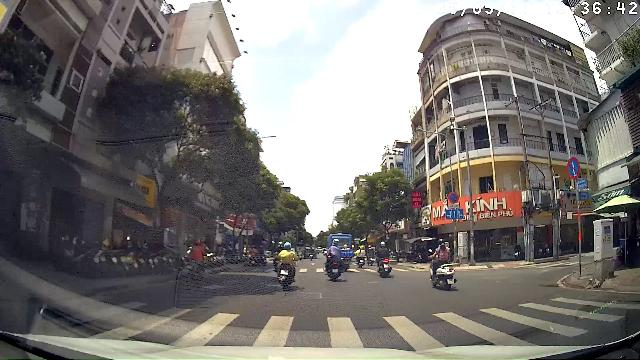131a-cam-do-xe: (448, 192, 459, 203)
131b-cam-do-xe-ngay-le: (566, 157, 581, 179)
